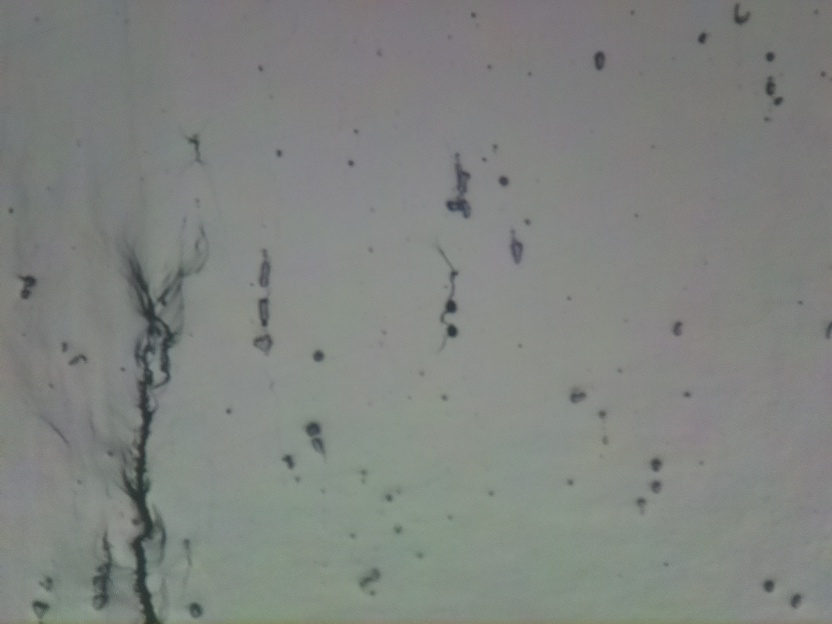crack: (124, 245, 176, 624)
